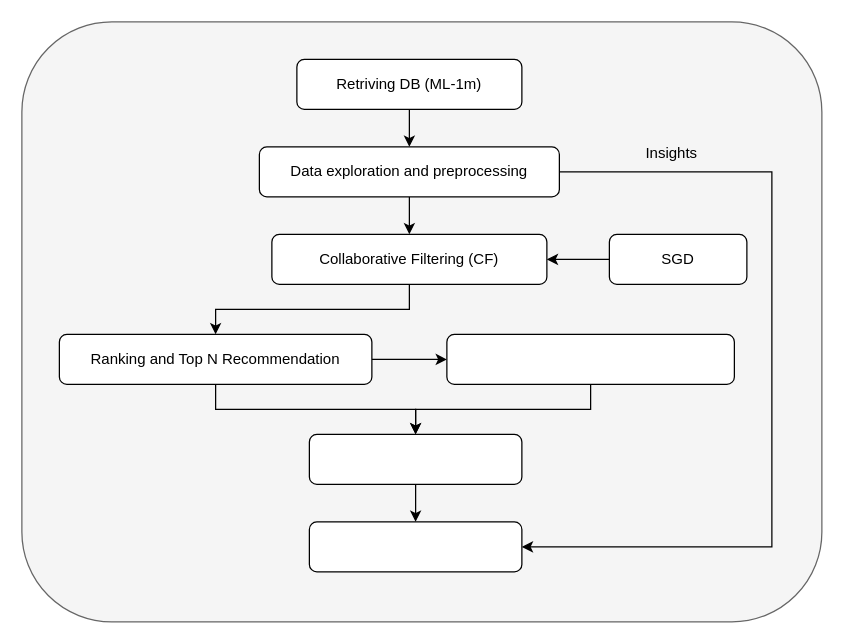
The diagram is 844 pixels wide and 644 high, and some of its shapes have lost their labels. The shapes that lost their labels are listed below. From the top down, each one's box as (x1, y1, x2, y2) in pixels, then its label:
(446, 333, 734, 384): Computing Genre Weight (optional)
(308, 433, 522, 484): Final Output
(308, 521, 522, 572): Evaluation and Testing
